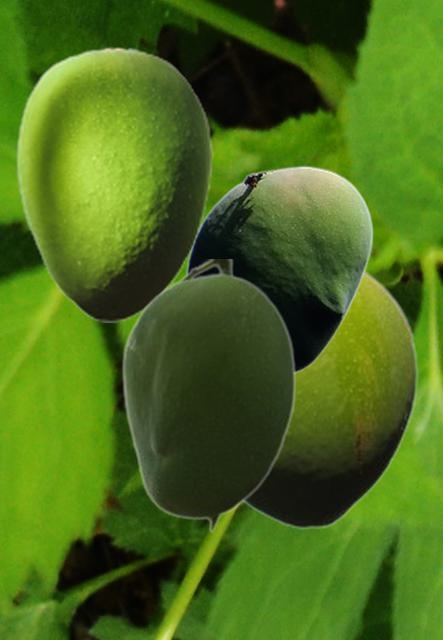green_mango: (15, 46, 212, 321), (120, 259, 295, 532), (243, 269, 418, 529), (186, 165, 373, 375)
